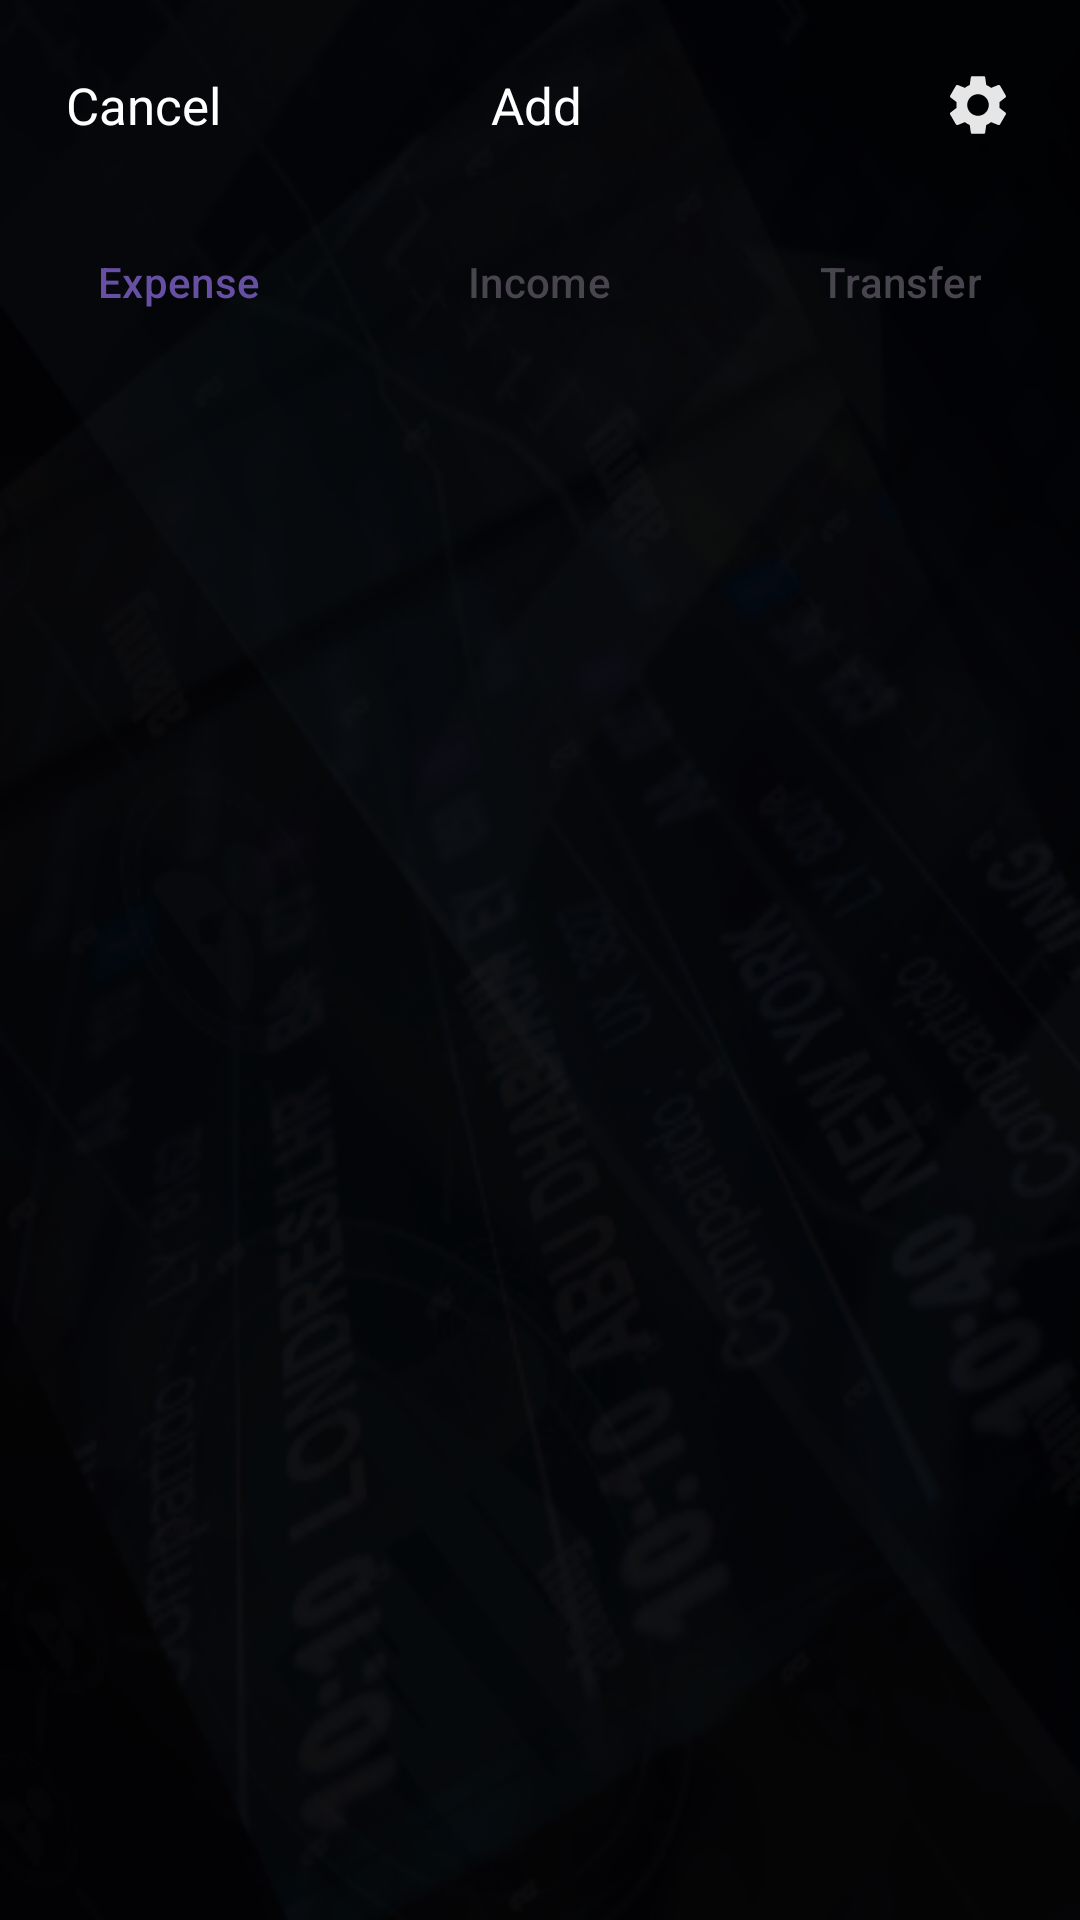

Where to tap for icons on this 1080 × 1920 app screen, as (x,y):
setting bd: (978,105)
